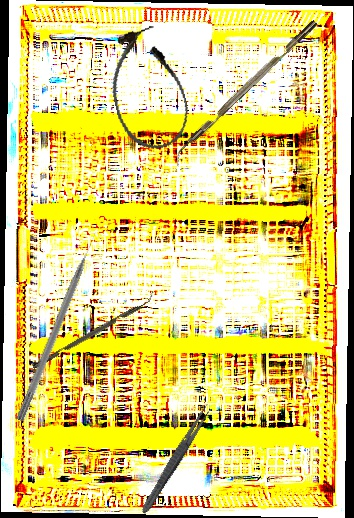Cannula: (99, 21, 196, 157)
Chopper: (167, 19, 325, 168), (28, 290, 159, 370)
Dressing Forceps: (138, 401, 214, 517)
Pusher: (15, 230, 102, 423)
